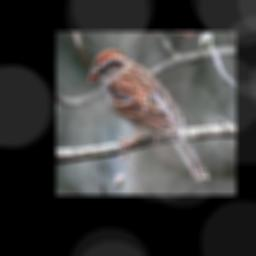Sparrow: (86, 49, 209, 182)
